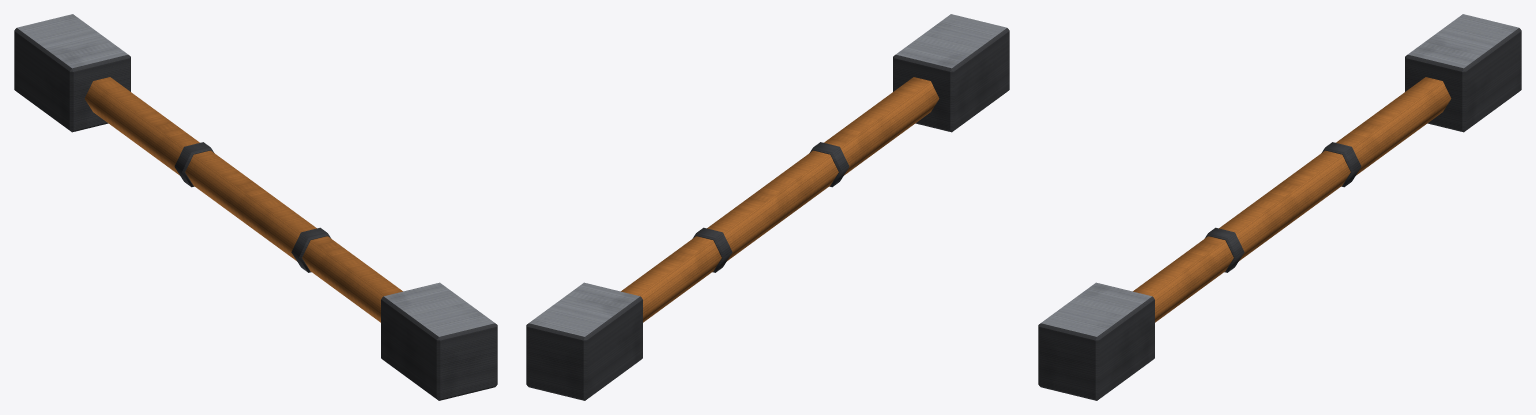
File: R4C_ROD_LONG_LOD1.glb
The picture shows the model from 3 angles, left to right: view 1: azimuth 30°, elevation 25°; view 2: azimuth 150°, elevation 25°; view 3: azimuth 330°, elevation 25°; orthographic projection.
Parts seen in each view (by area): view 1: R4C_ROD_LONG_LOD1; view 2: R4C_ROD_LONG_LOD1; view 3: R4C_ROD_LONG_LOD1.
Boxes of the visible parts, <box> form: R4C_ROD_LONG_LOD1: <box>14,14,497,400</box>; R4C_ROD_LONG_LOD1: <box>526,14,1009,400</box>; R4C_ROD_LONG_LOD1: <box>1038,14,1521,400</box>.
Size of the model in its own units: 0.226 by 0.226 by 2.72.
3 materials, 3 textured.
